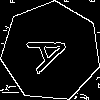A: (26, 26, 81, 75)
